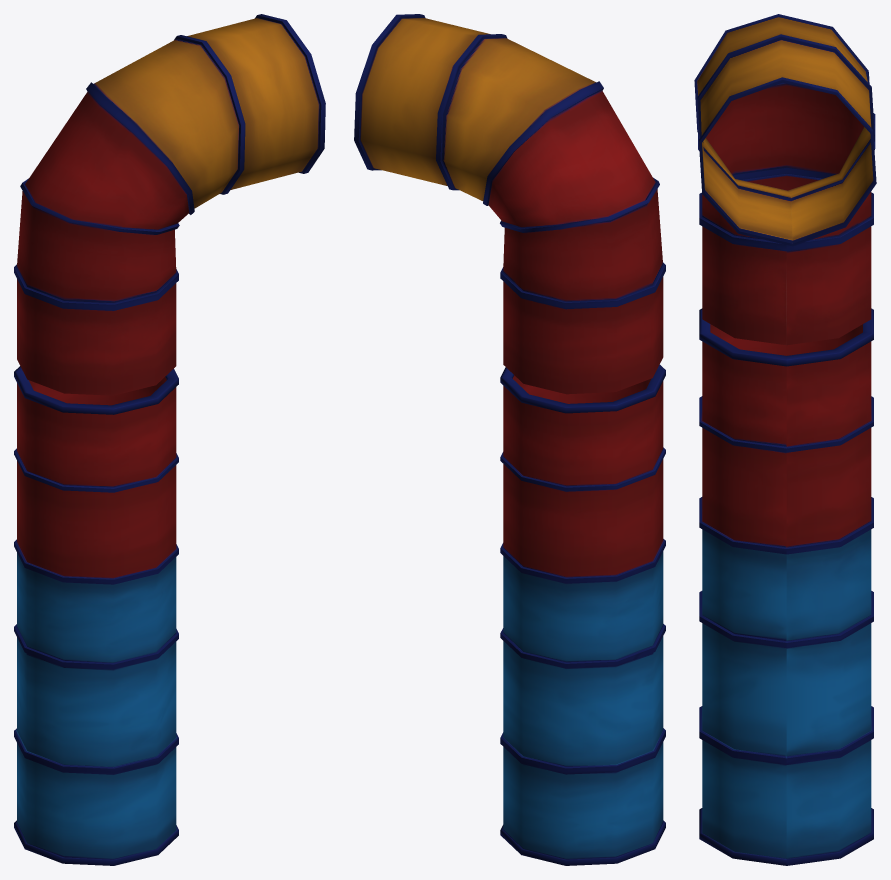
The model's file is Tunnel.fbx.
3 views of the same model, side by side, from view 1: azimuth 30°, elevation 25°; view 2: azimuth 150°, elevation 25°; view 3: azimuth 270°, elevation 25° (orthographic). The views are drawn at different scales.
Parts seen in each view (by area): view 1: Tunnel_Base, Tunnel_Bend; view 2: Tunnel_Base, Tunnel_Bend; view 3: Tunnel_Base, Tunnel_Bend.
Boxes of the visible parts, x1,y1,x2,y2 form: Tunnel_Base: (14,366,178,865); Tunnel_Bend: (14,14,325,395); Tunnel_Base: (500,364,665,865); Tunnel_Bend: (354,14,665,394); Tunnel_Base: (699,308,873,865); Tunnel_Bend: (694,14,876,345).
Bounding box in the file's own units: 10.39 × 29.07 × 5.65.
